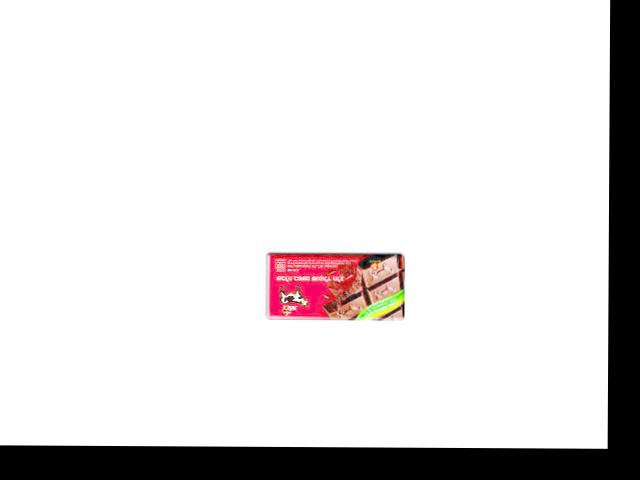chocolate: (261, 246, 405, 322)
